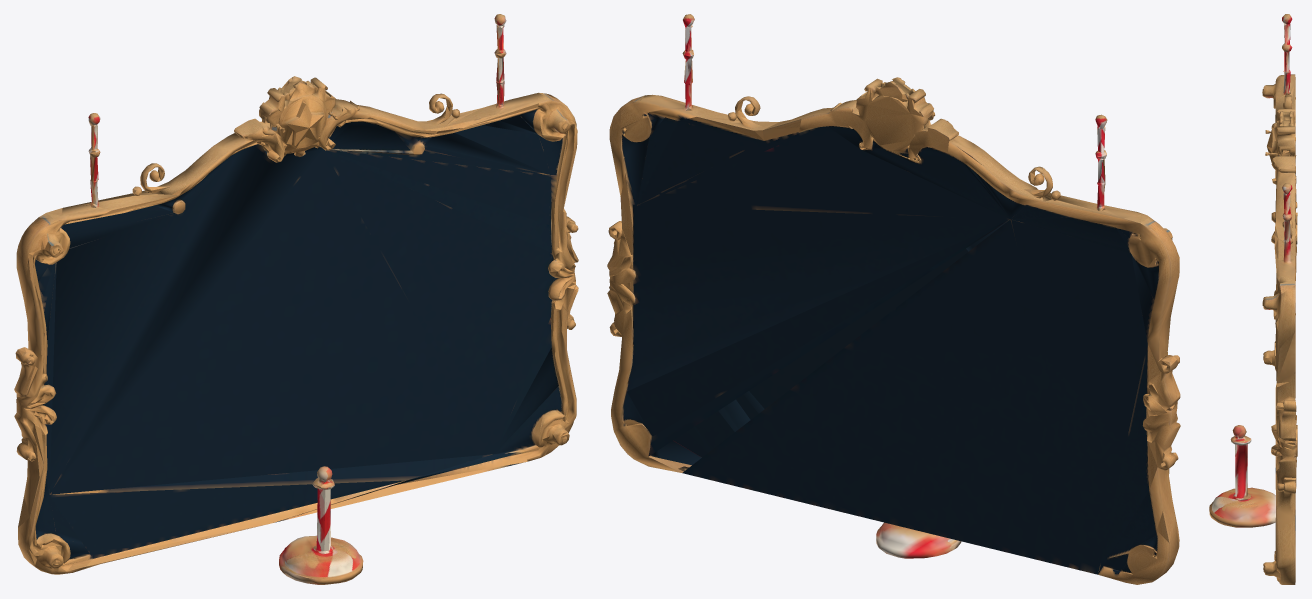
The model's file is PanneauChenil.fbx.
3 renders of one model, left to right at view 1: azimuth 30°, elevation 25°; view 2: azimuth 150°, elevation 25°; view 3: azimuth 270°, elevation 25°, orthographic. The views are drawn at different scales.
Visible parts, largest first — view 1: Mesh_0; view 2: Mesh_0; view 3: Mesh_0.
Part boxes in pixels (<box>): Mesh_0: <box>14,14,578,584</box>; Mesh_0: <box>607,14,1180,584</box>; Mesh_0: <box>1209,14,1297,584</box>.
Size of the model in its own units: 190 by 159 by 30.7.
1 material, 1 textured.
